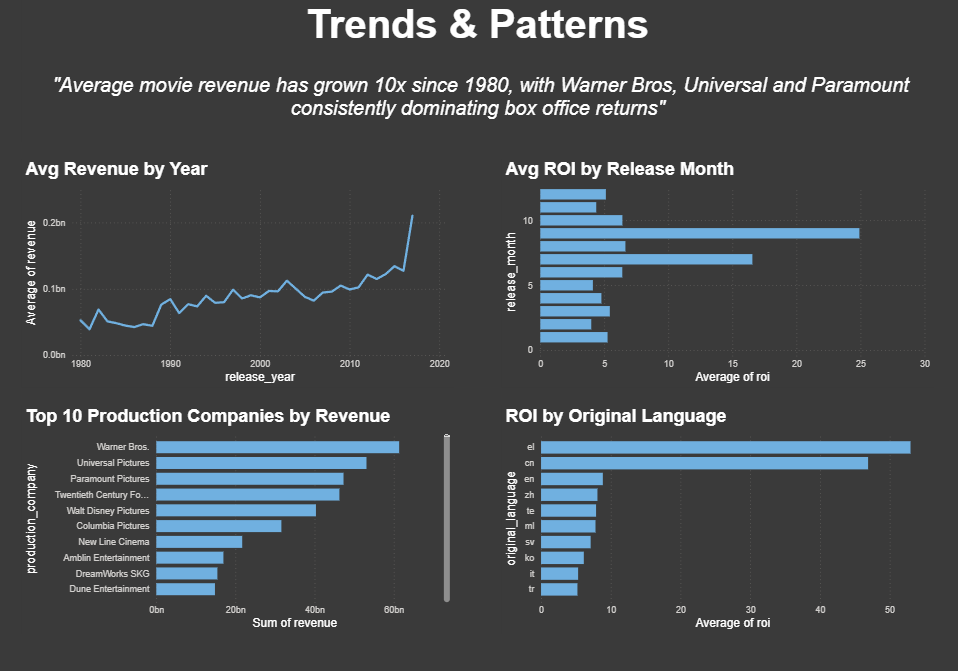

The dashboard page shown, as its layout file describes it:
{"tool":"powerbi","page":{"name":"Trends & Patterns","canvas":[1280,900],"ordinal":2},"visuals":[{"type":"textbox","box":[32,0,1216,96],"z":0},{"type":"lineChart","title":"Avg Revenue by Year","fields":{"Category":["movies_final.release_year"],"Y":["Avg(movies_final.revenue)"]},"box":[31.4,215.4,576,304],"z":1000},{"type":"barChart","title":"Avg ROI by Release Month","fields":{"Category":["movies_final.release_month"],"Y":["Avg(movies_final.roi)"]},"box":[671.4,215.4,576,304],"z":2000},{"type":"barChart","title":"Top 10 Production Companies by Revenue","fields":{"Y":["Sum(production_clean.revenue)"],"Category":["production_clean.production_company"]},"box":[32,544,576,304],"z":3000},{"type":"barChart","title":"ROI by Original Language","fields":{"Category":["movies_final.original_language"],"Y":["Avg(movies_final.roi)"]},"box":[672,544,576,304],"z":4000},{"type":"textbox","box":[32,96,1216,96],"z":5000}]}

Visuals, with their boxes in screenshot pixels (x1, y1, x2, y2), scaled from the page's 1280x900 canvas onto the 958x671 screenshot:
textbox: 24/0/934/72
"Avg Revenue by Year" lineChart: 24/161/455/387
"Avg ROI by Release Month" barChart: 503/161/934/387
"Top 10 Production Companies by Revenue" barChart: 24/406/455/632
"ROI by Original Language" barChart: 503/406/934/632
textbox: 24/72/934/143
